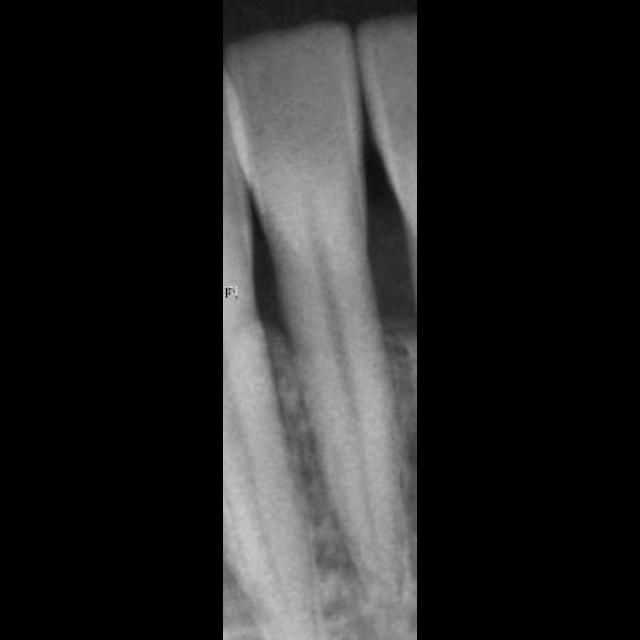tooth: (224, 22, 403, 609)
